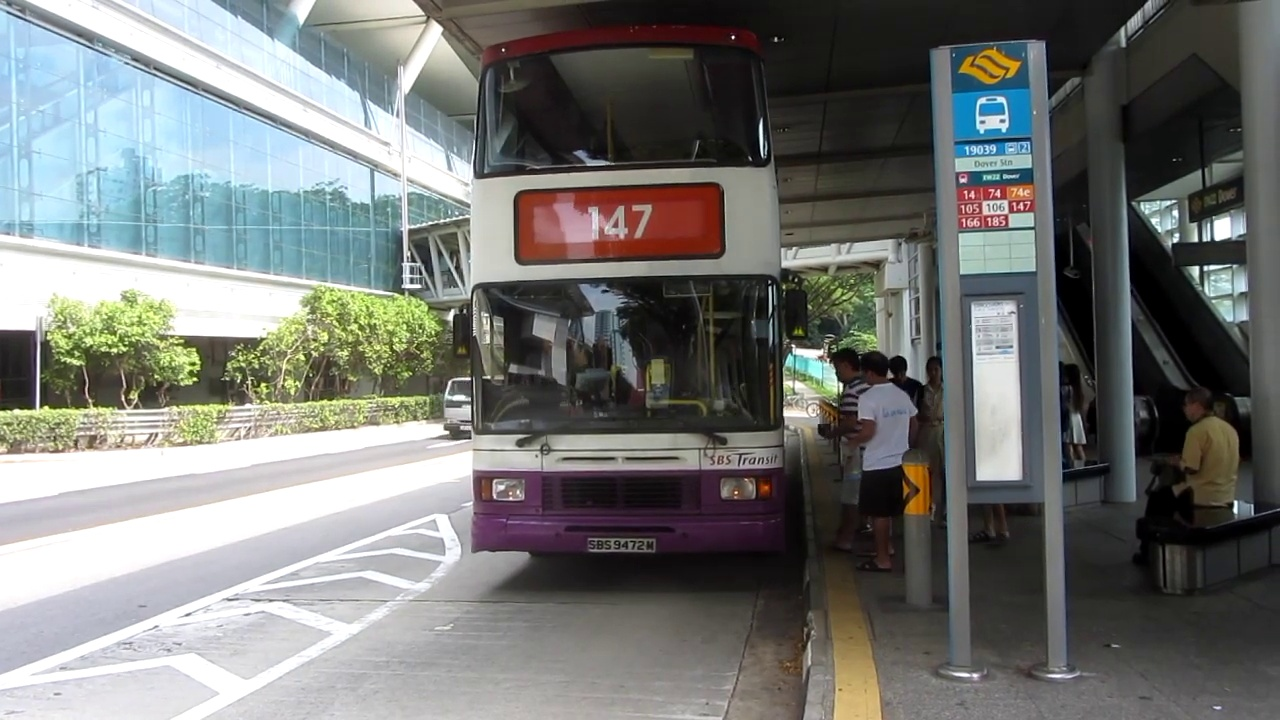bus panel: (512, 180, 729, 269)
